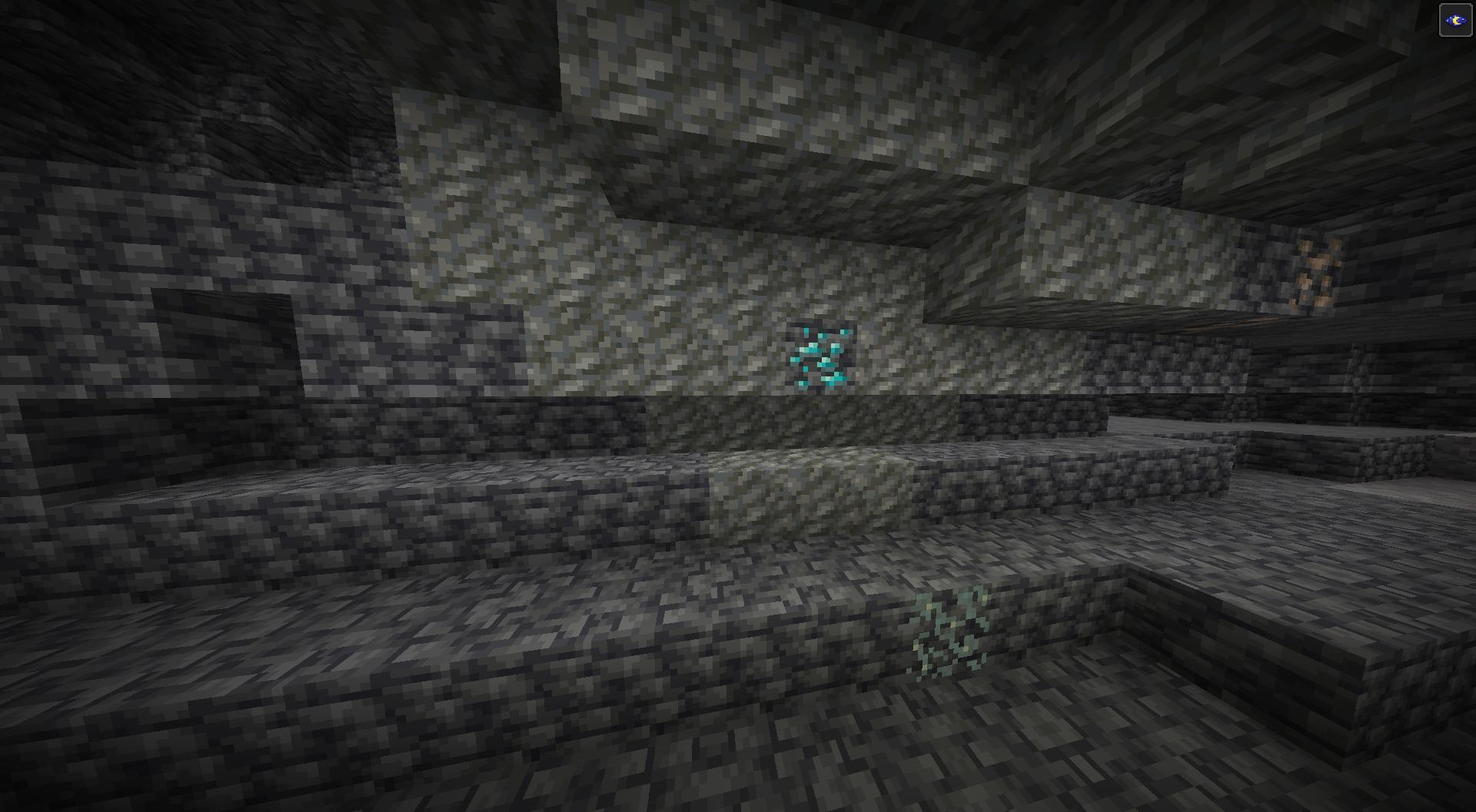diamond ore: (788, 321, 853, 392)
iron ore: (1283, 230, 1342, 318)
